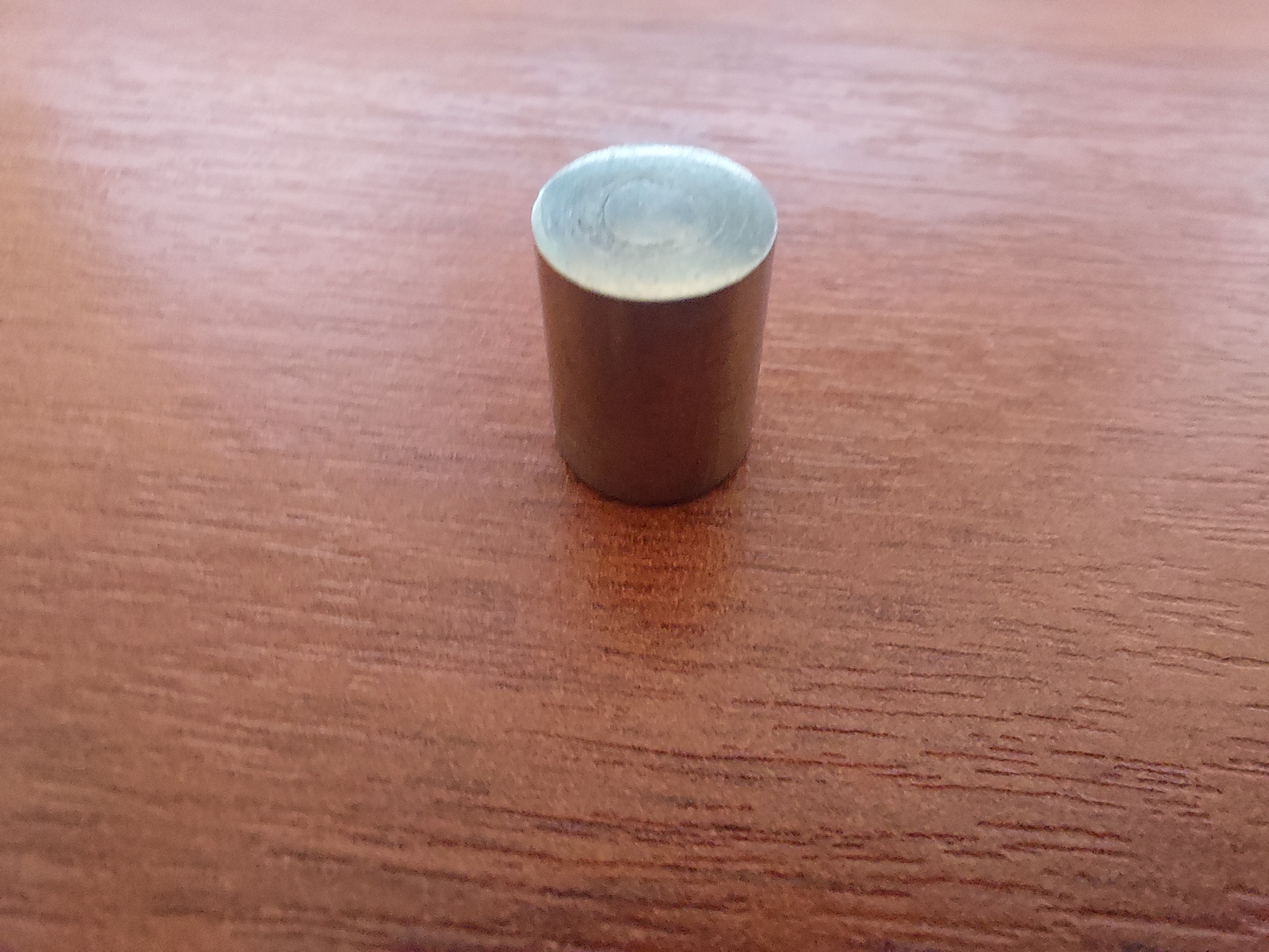tablet: (513, 116, 790, 531)
